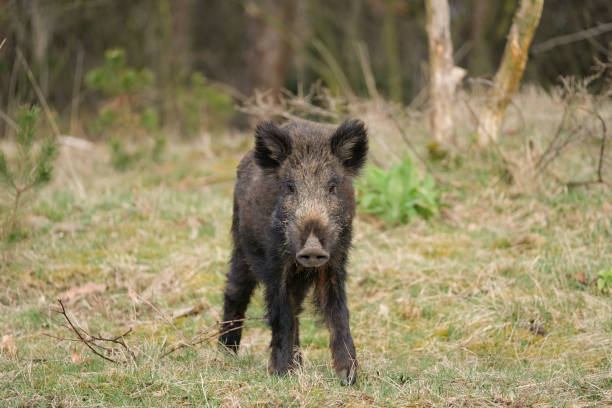pig: (225, 114, 382, 393)
